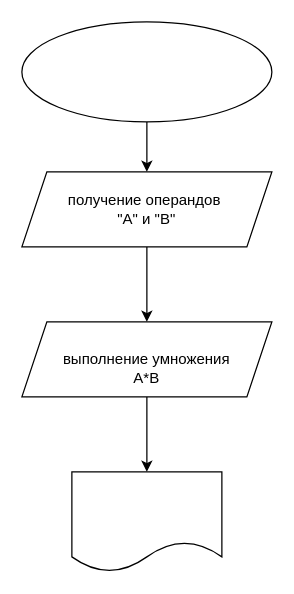
Some shapes in this 294 by 594 pixel diagram are drawn without their labels. Here are the shapes that lost their labels. From the top down, the centre of each, then its label:
the point at 146,71: Начало
the point at 146,521: ответ
